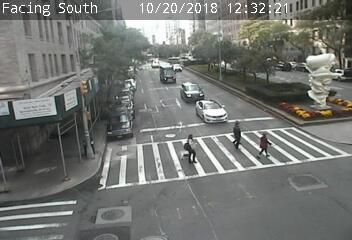car: (196, 101, 230, 122), (179, 83, 205, 101), (160, 68, 177, 84)
